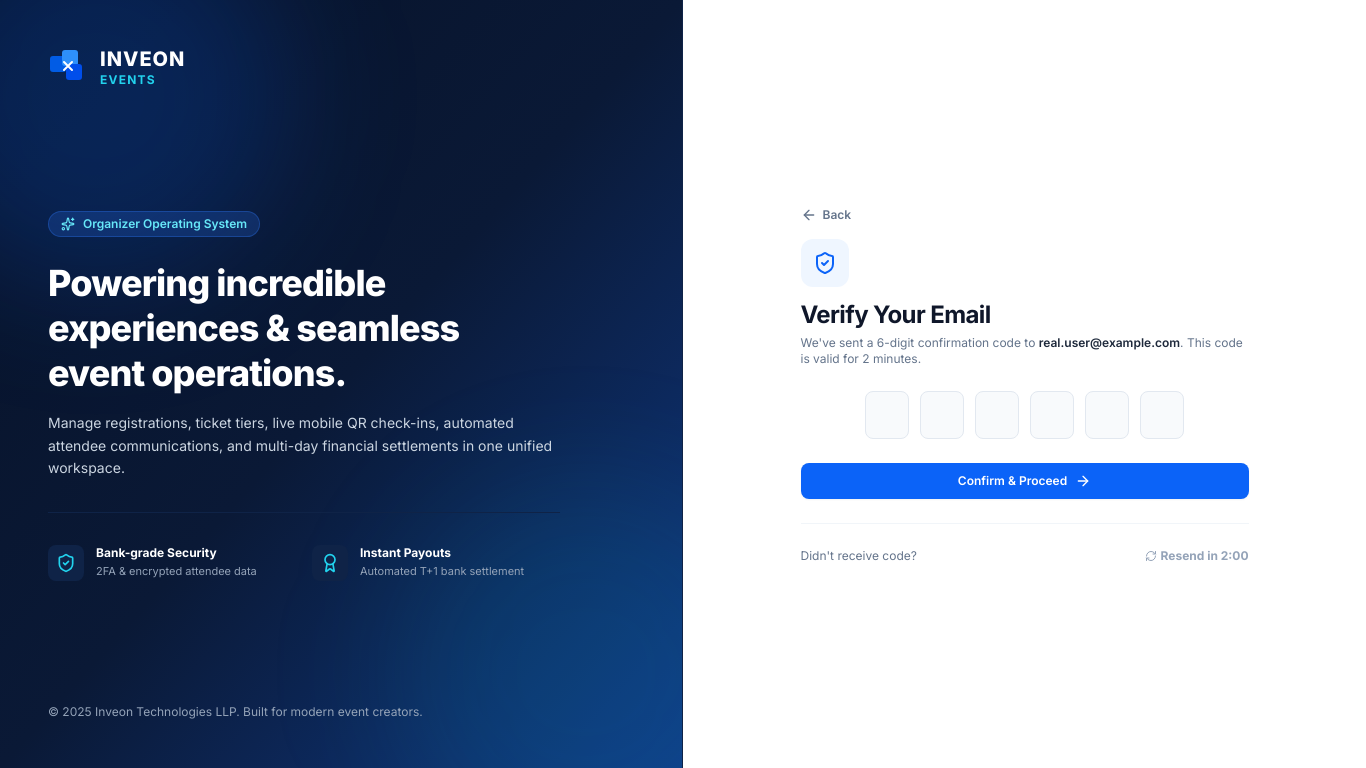
Test: organizer portal: real signup + OTP verification › verify-otp in signup context submits the real code and logs the user in on success
Expected: the text "real.user@example.com" is shown, [1039,334,1180,350]
Type "1" into the 1st field at (886, 414), box [864,390,908,438]
Type "2" into the 2nd field at (942, 414), box [920,390,964,438]
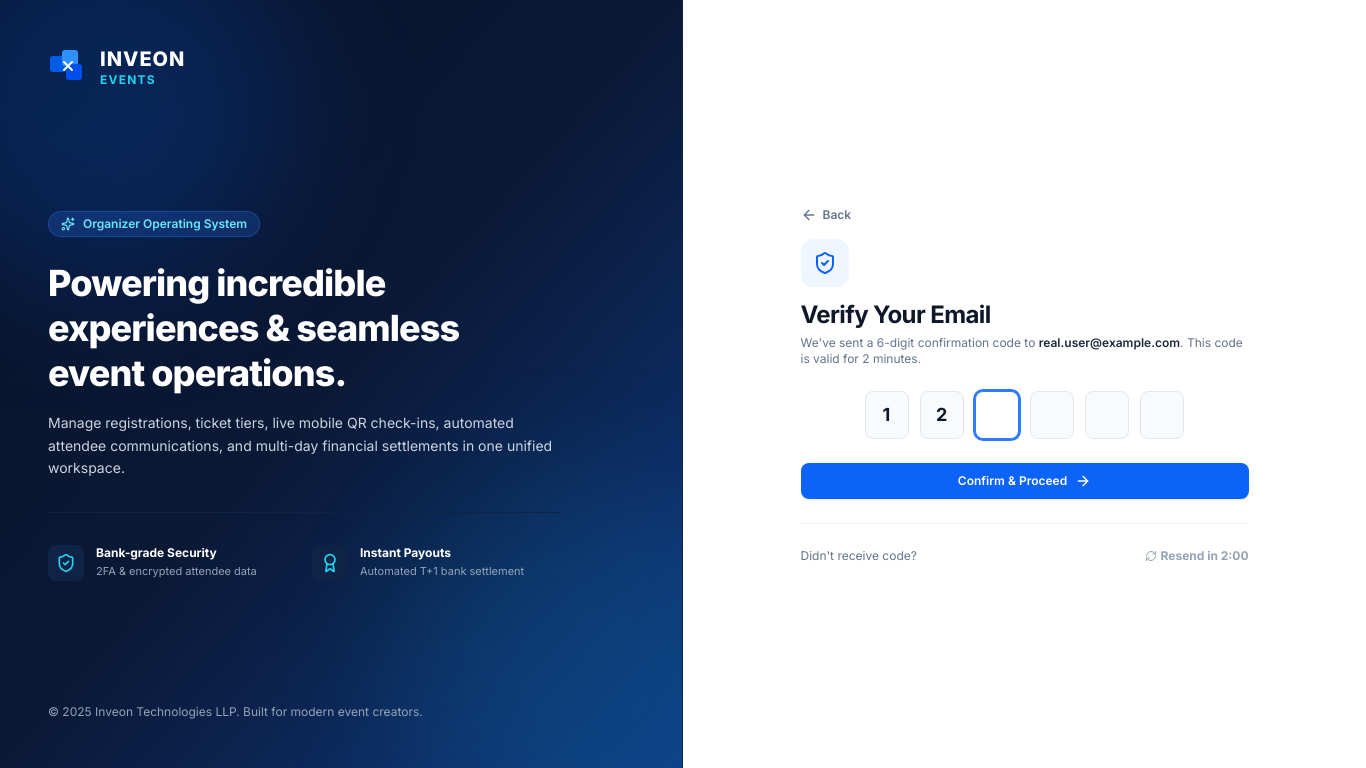
Type "3" into the 3rd field at (997, 414), box [975,390,1019,438]
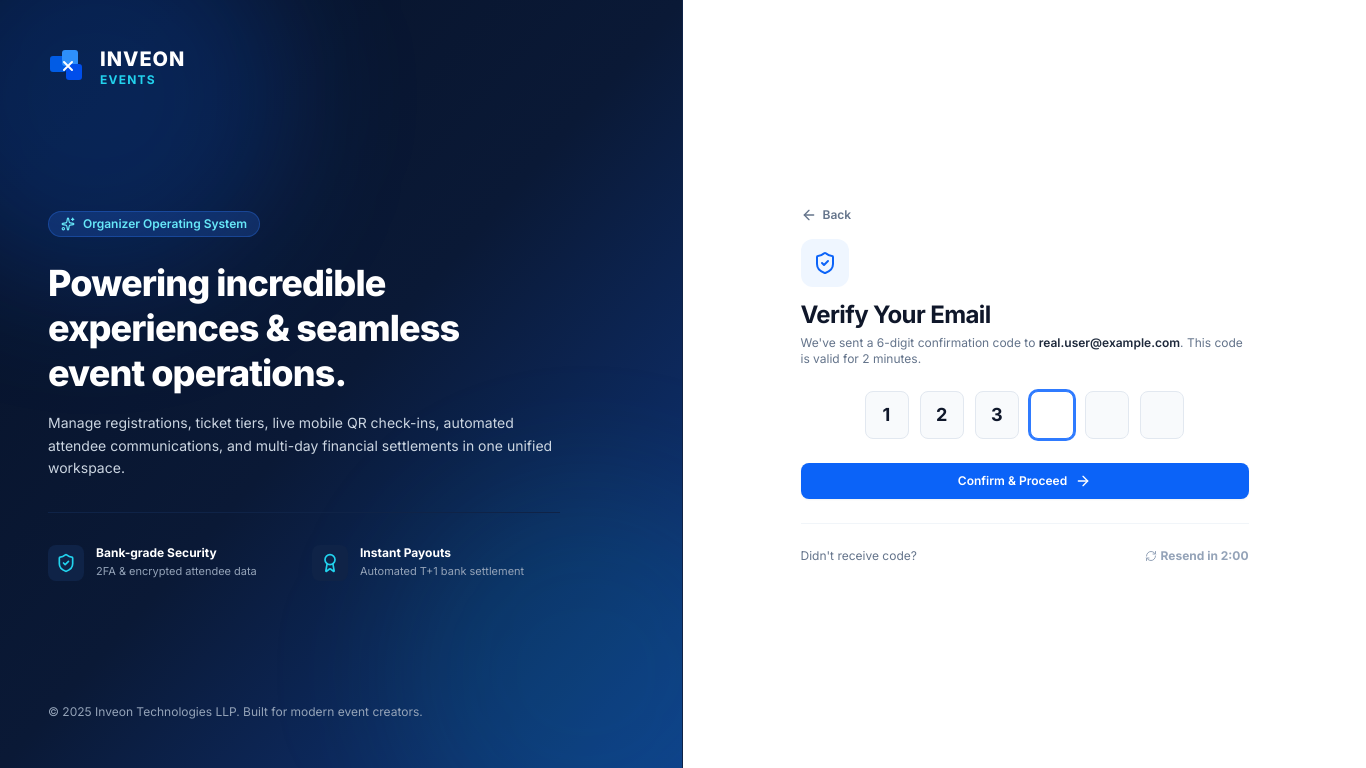
Type "4" into the 4th field at (1052, 414), box [1030,390,1074,438]
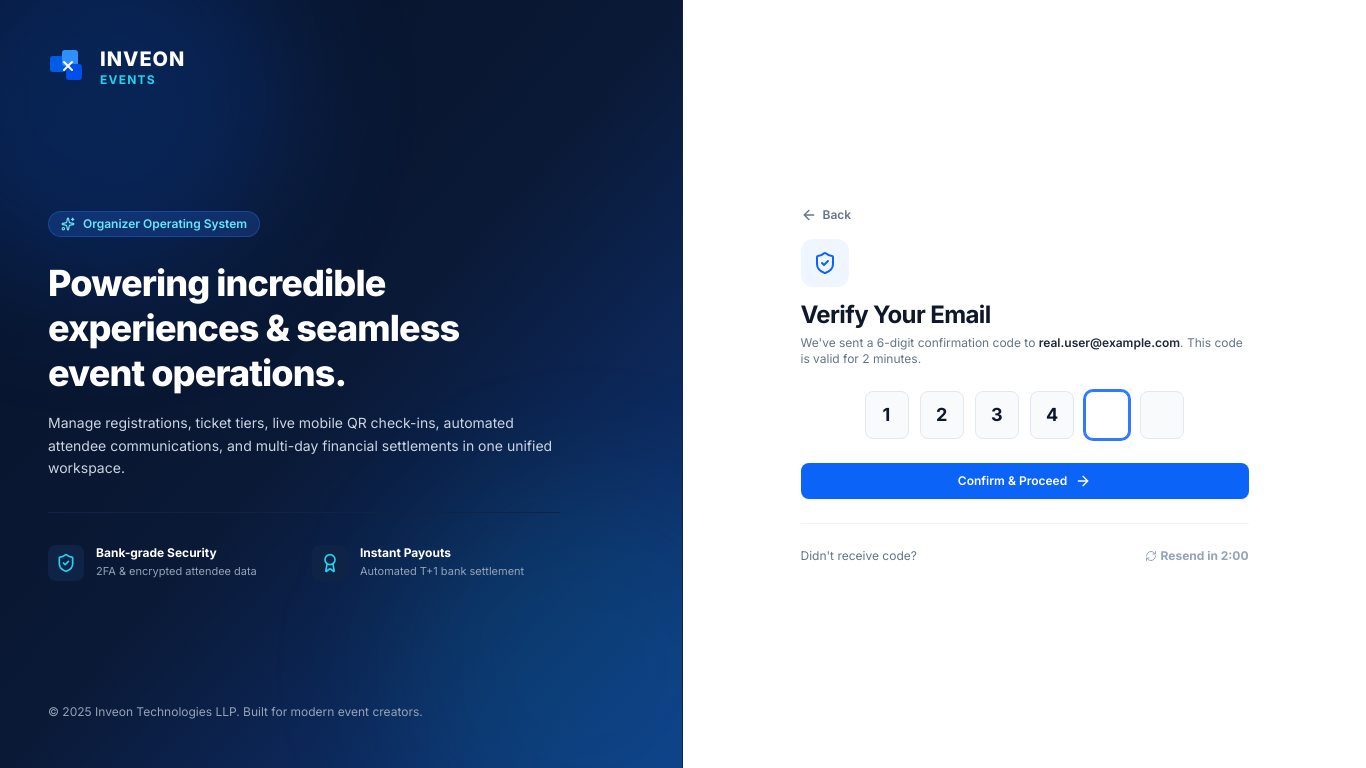
Type "5" into the 5th field at (1107, 414), box [1085,390,1129,438]
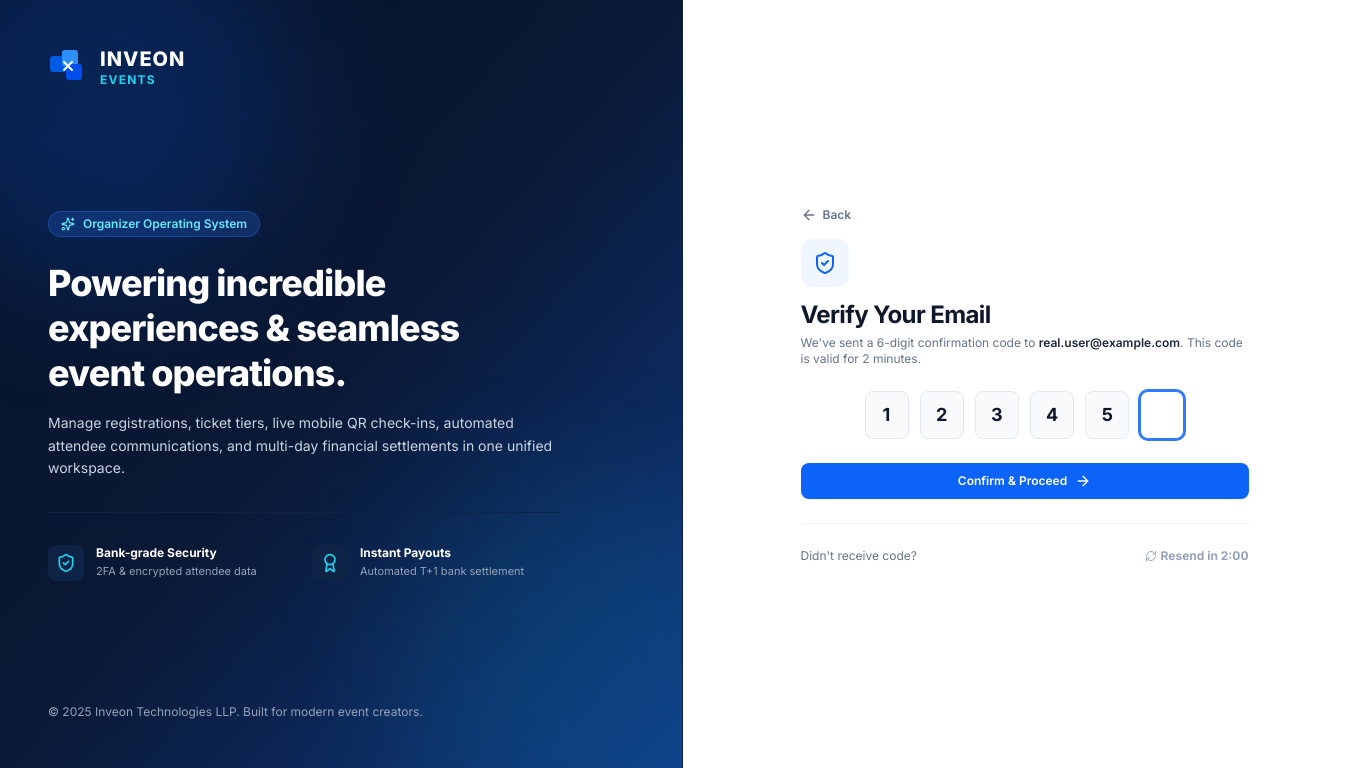
Type "6" into the 6th field at (1162, 414), box [1140,390,1184,438]
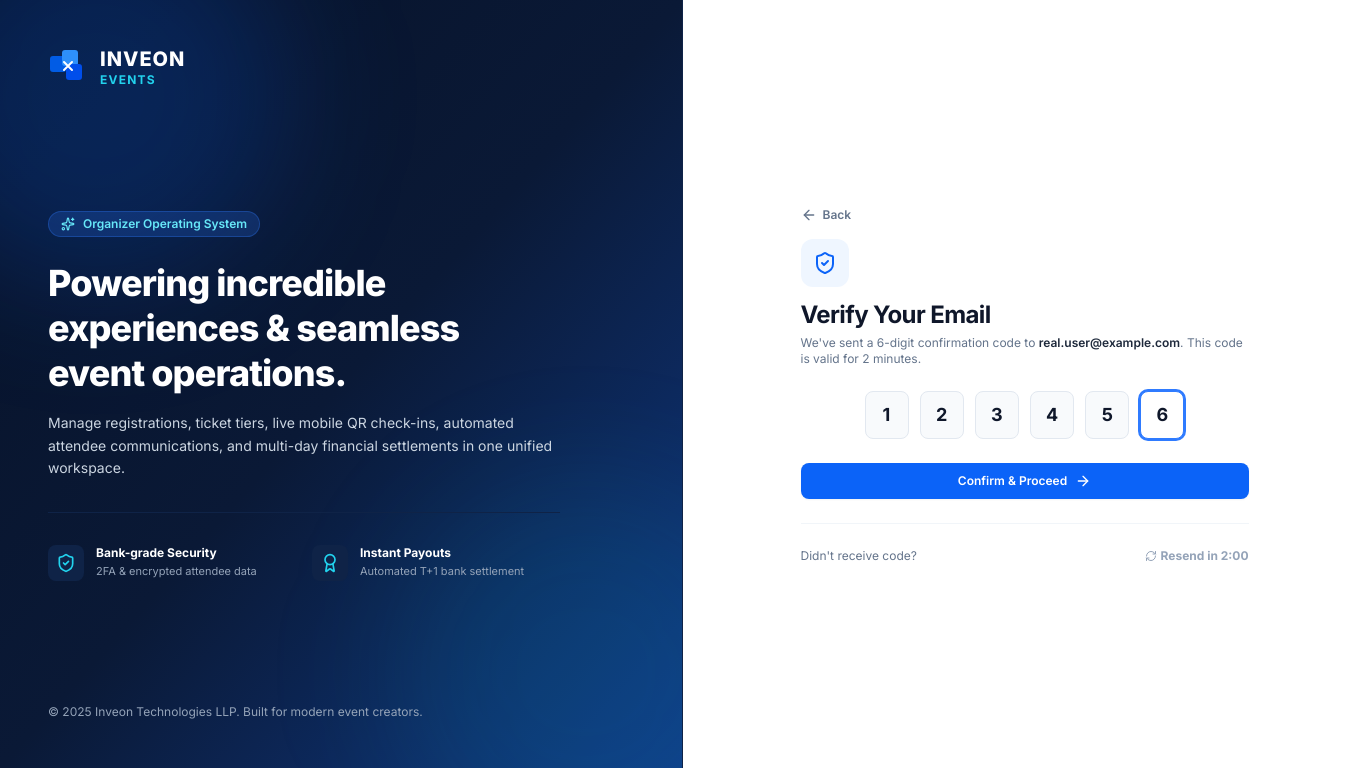
Click the button "Confirm & Proceed" at (1024, 480), box [800,462,1248,498]
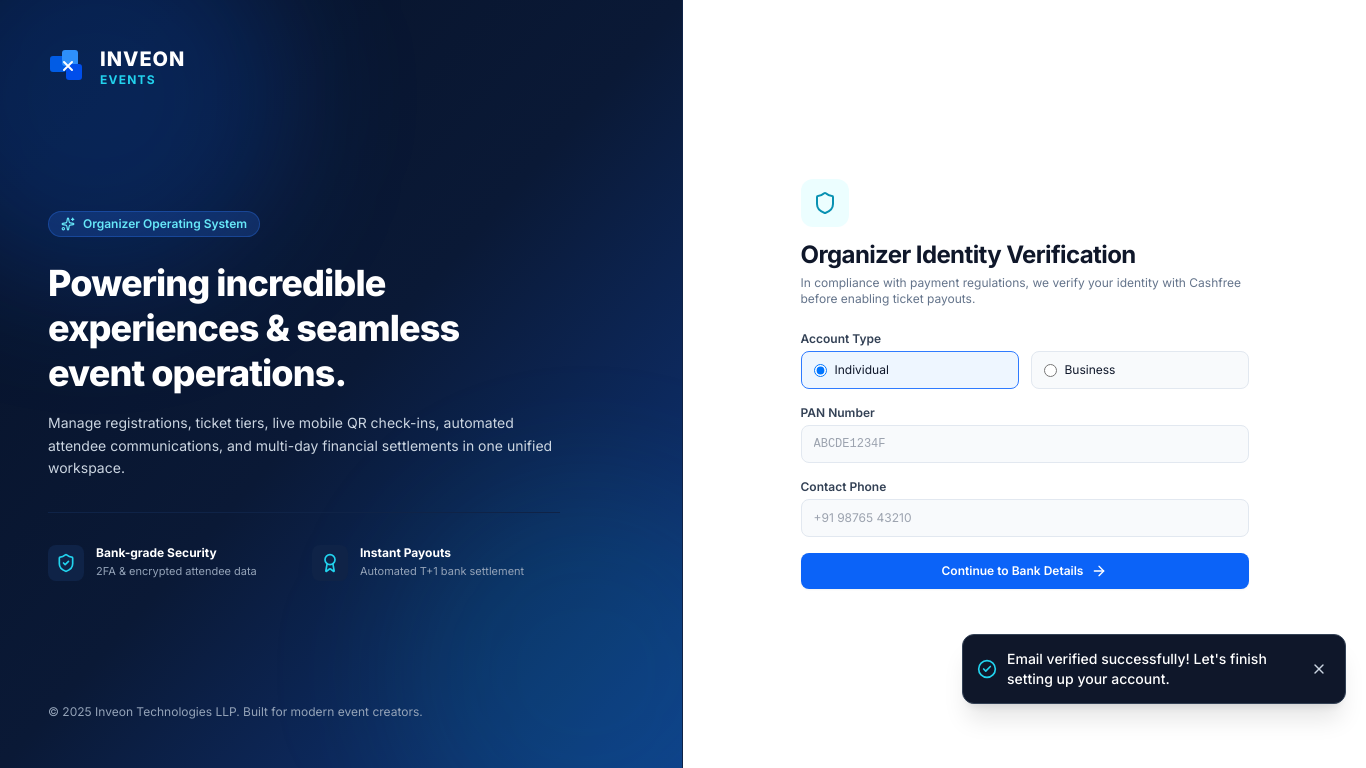
Now the heading "Organizer Identity Verification" is shown, box [800,240,1136,269]
